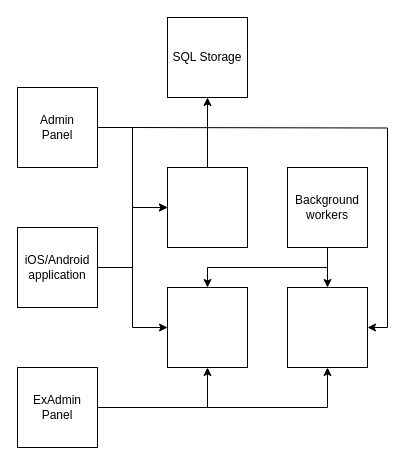
This 413x465 diagram has some shape labels left out. The centre of each missing label's shape, as x and y in pixels:
"Backend API" belongs at (x=207, y=207).
"Token Smart Contract" belongs at (x=207, y=327).
"Vesting Smart Contract" belongs at (x=327, y=327).
